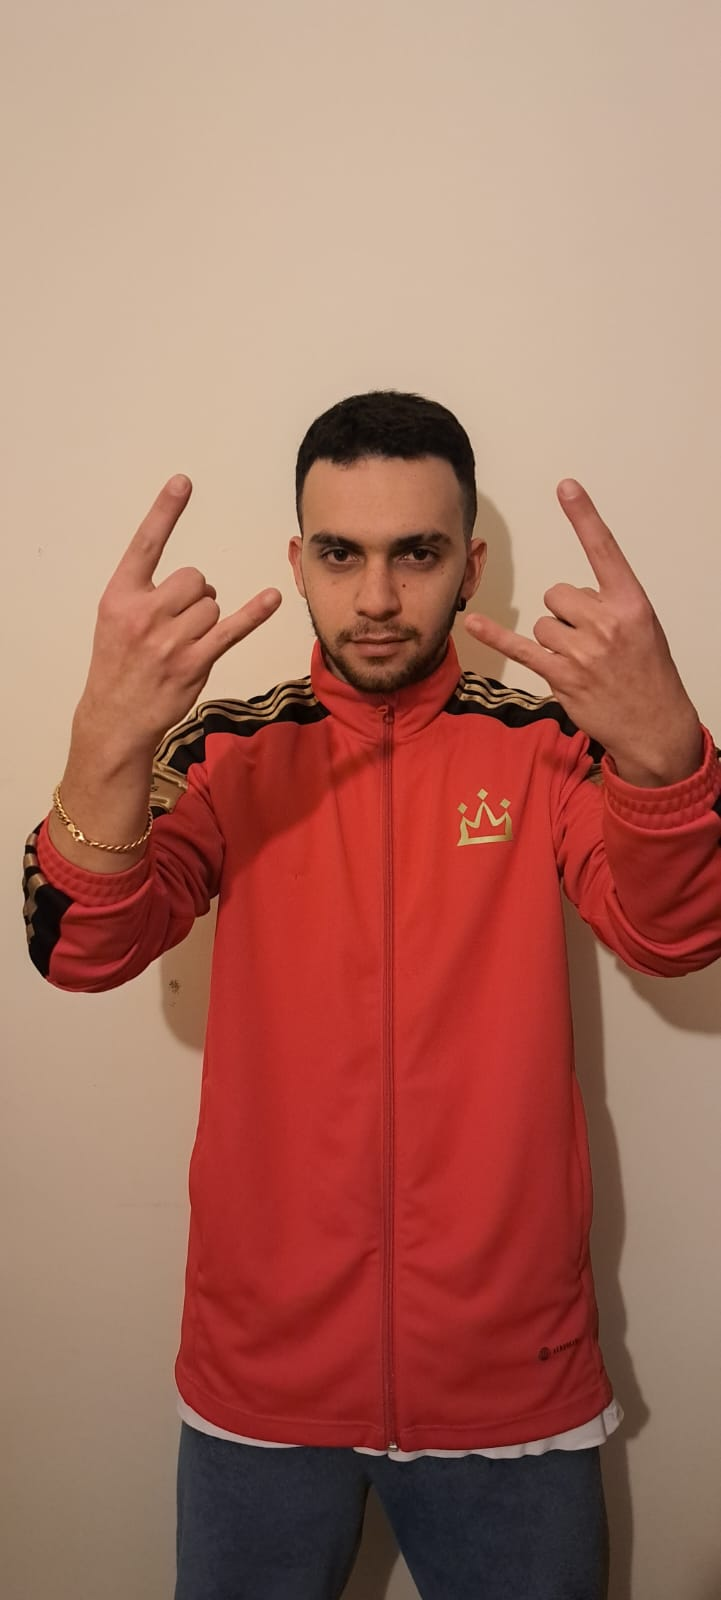rock: (79, 472, 694, 740)
